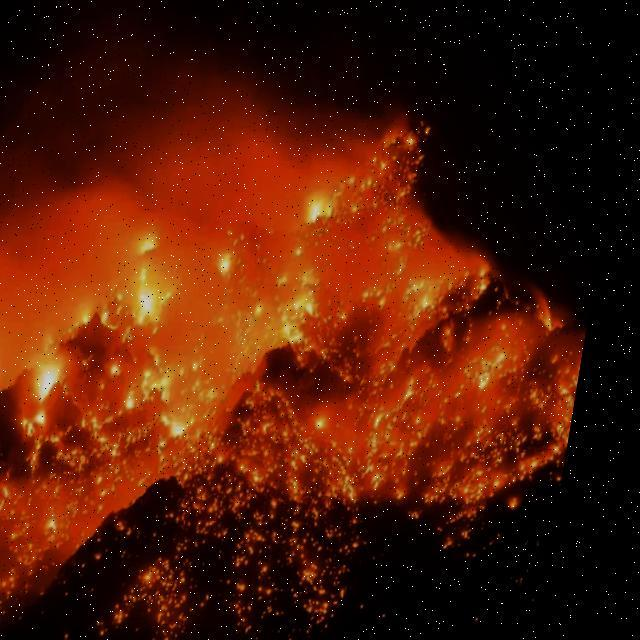Fire: (0, 142, 602, 606)
